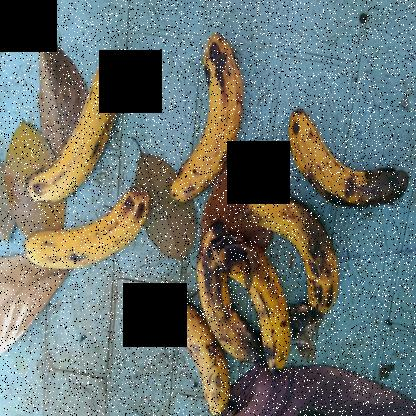overripe: (161, 18, 255, 212)
ripe: (22, 42, 126, 209), (10, 191, 154, 280)
rotten: (281, 92, 415, 221), (244, 182, 355, 328), (212, 228, 295, 387), (136, 297, 246, 415)
